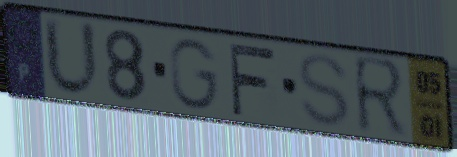8: (102, 28, 150, 104)
F: (225, 40, 278, 118)
G: (167, 36, 222, 113)
R: (350, 51, 410, 142)
S: (296, 50, 353, 130)
U: (40, 13, 103, 102)
